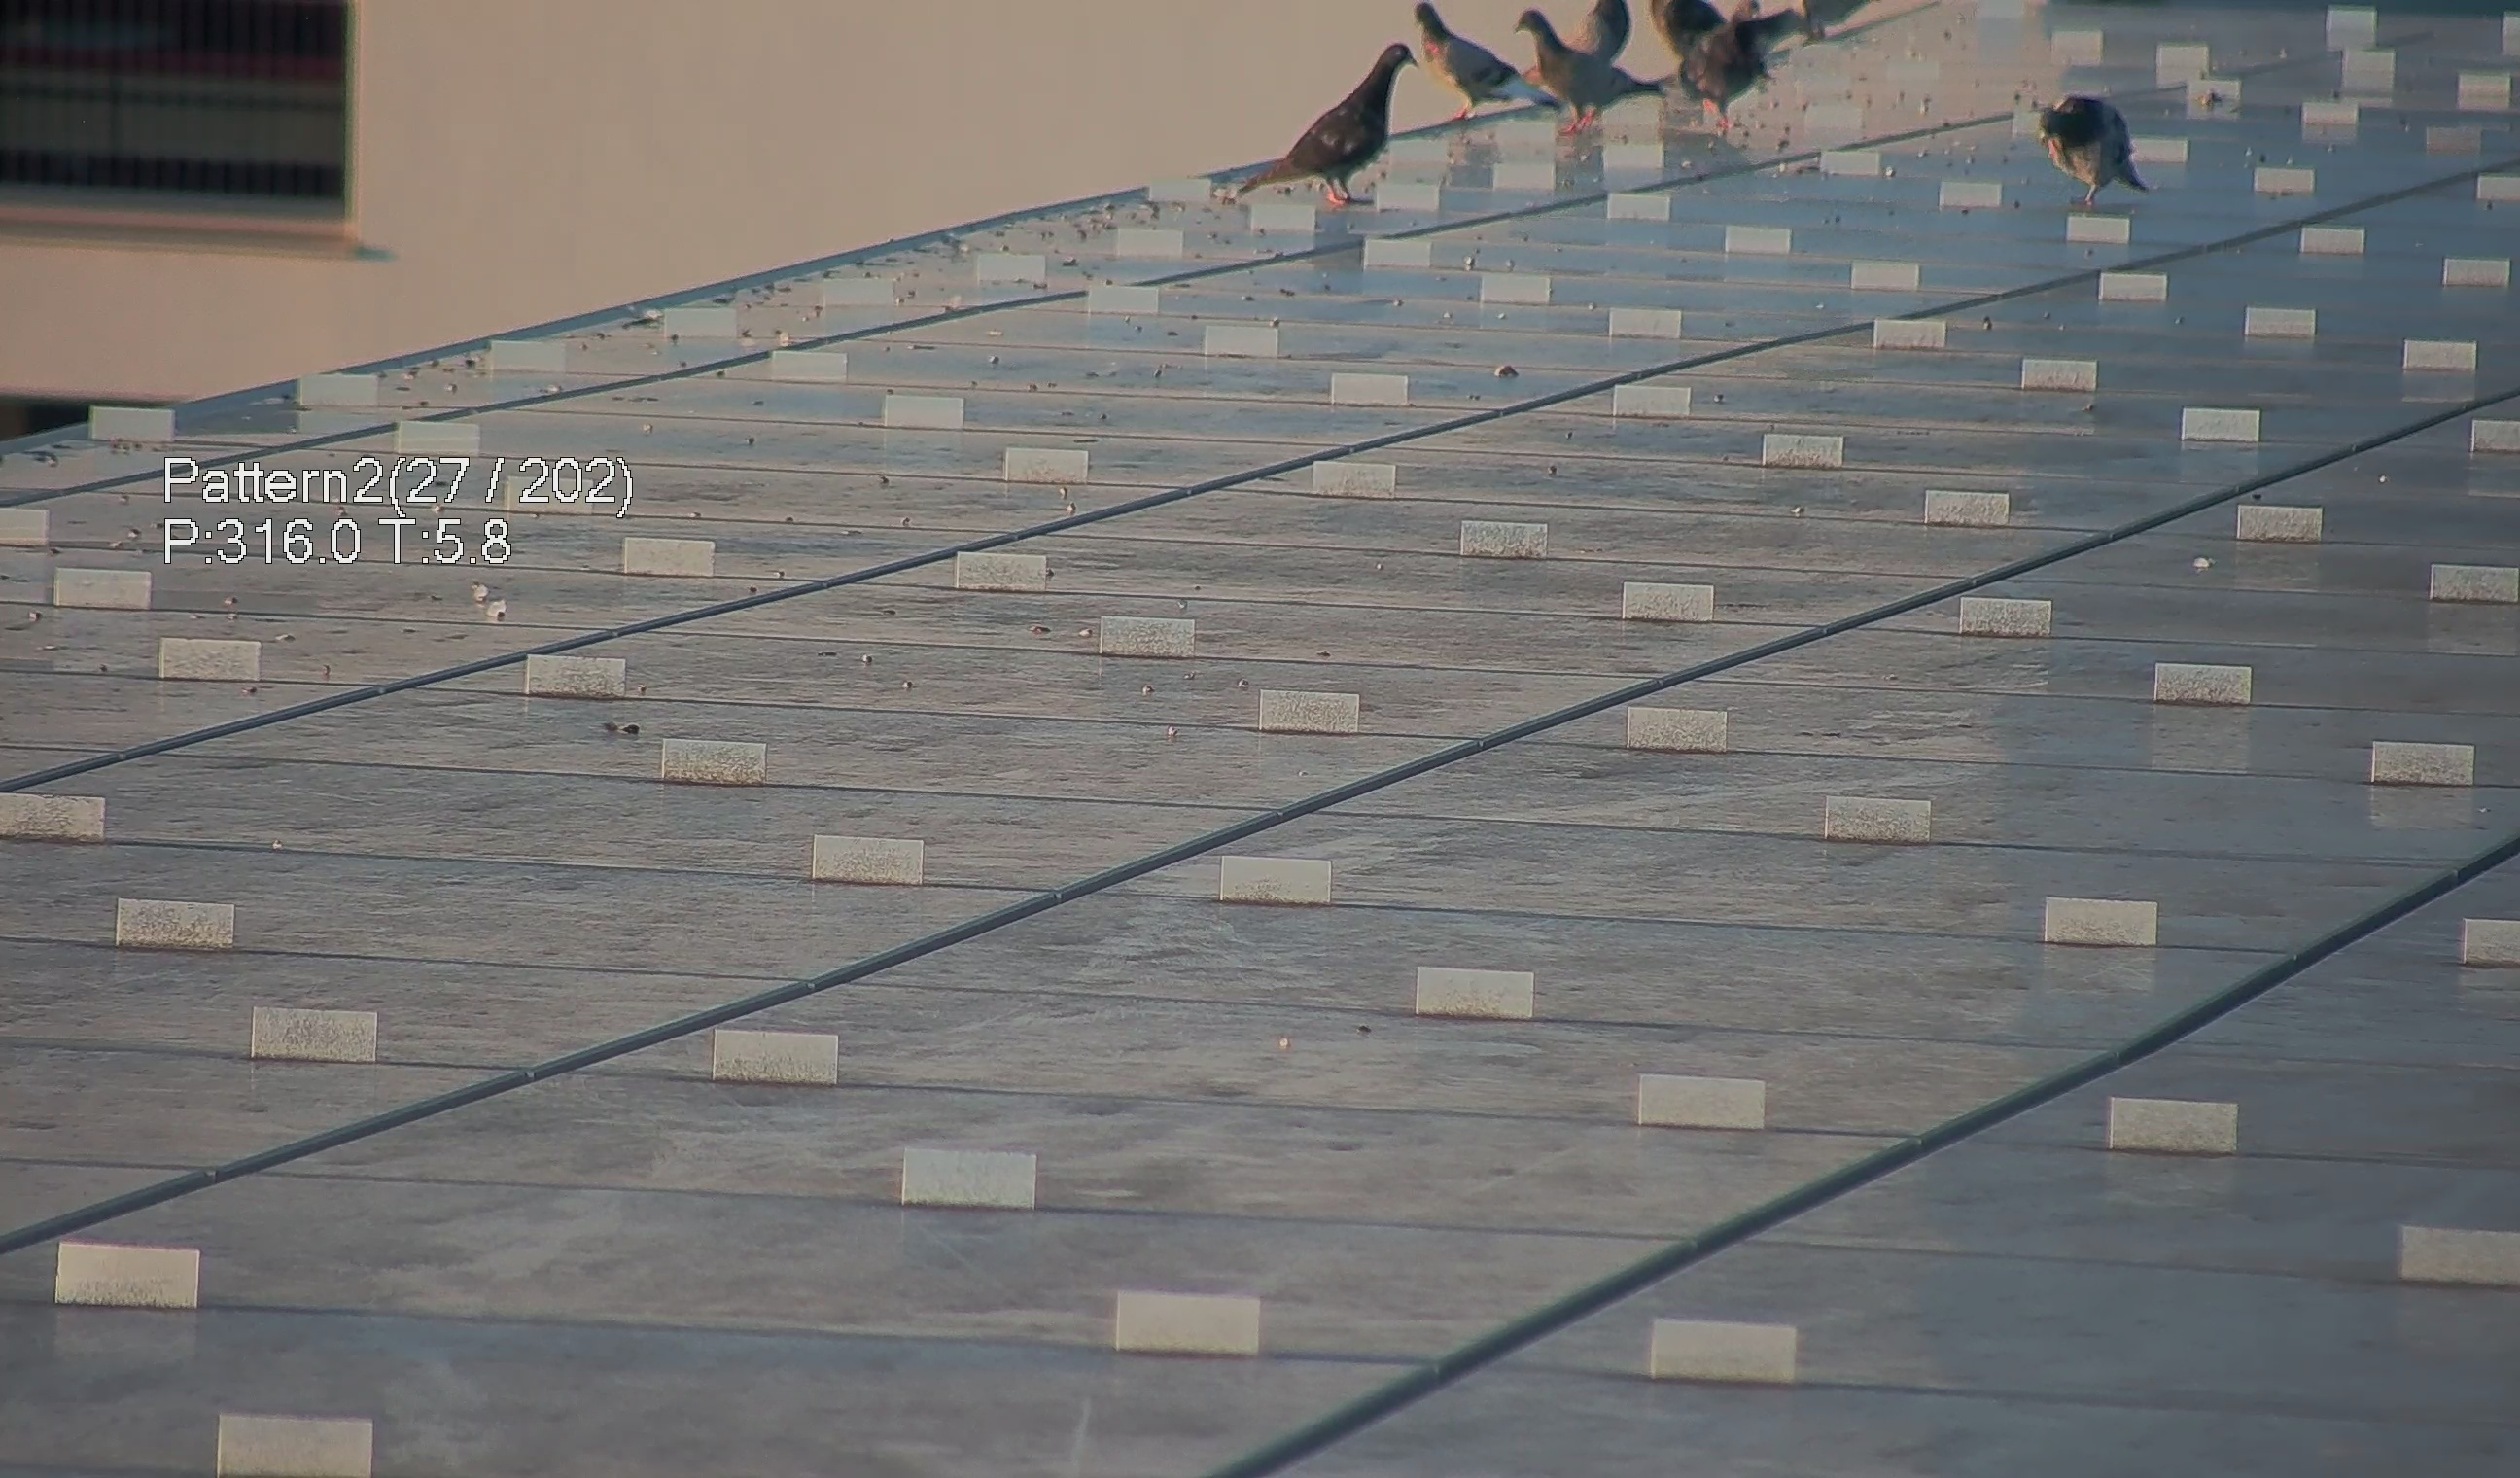Pigeon: (1227, 26, 1437, 216), (1507, 12, 1664, 132), (1414, 2, 1560, 128), (2038, 81, 2172, 202), (1679, 2, 1785, 135)
